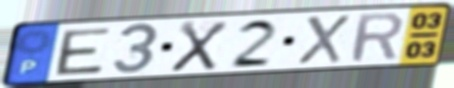2: (225, 17, 282, 67)
3: (111, 20, 161, 78)
E: (54, 26, 114, 77)
R: (348, 10, 405, 64)
X: (167, 20, 231, 74), (295, 13, 353, 66)
